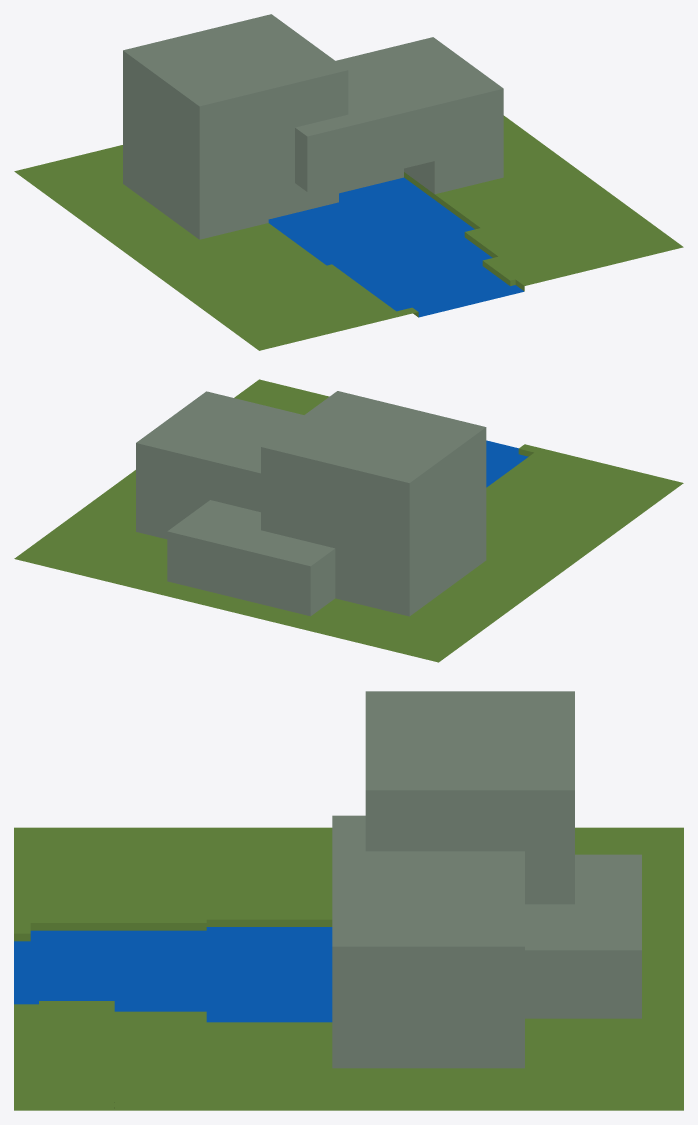
Rendered from LLLLR5(1).glb.
3 views of the same model, one above another, from view 1: azimuth 30°, elevation 25°; view 2: azimuth 150°, elevation 25°; view 3: azimuth 270°, elevation 25° (orthographic). The views are drawn at different scales.
Parts seen in each view (by area): view 1: model_0.051; view 2: model_0.051; view 3: model_0.051.
Boxes of the visible parts, x1=… form: model_0.051: x1=14, y1=14, x2=683, y2=350; model_0.051: x1=14, y1=379, x2=683, y2=662; model_0.051: x1=14, y1=691, x2=683, y2=1110.
Size of the model in its own units: 80 by 25 by 80.
1 material, 1 textured.
